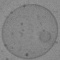small: (37, 29, 51, 42)
